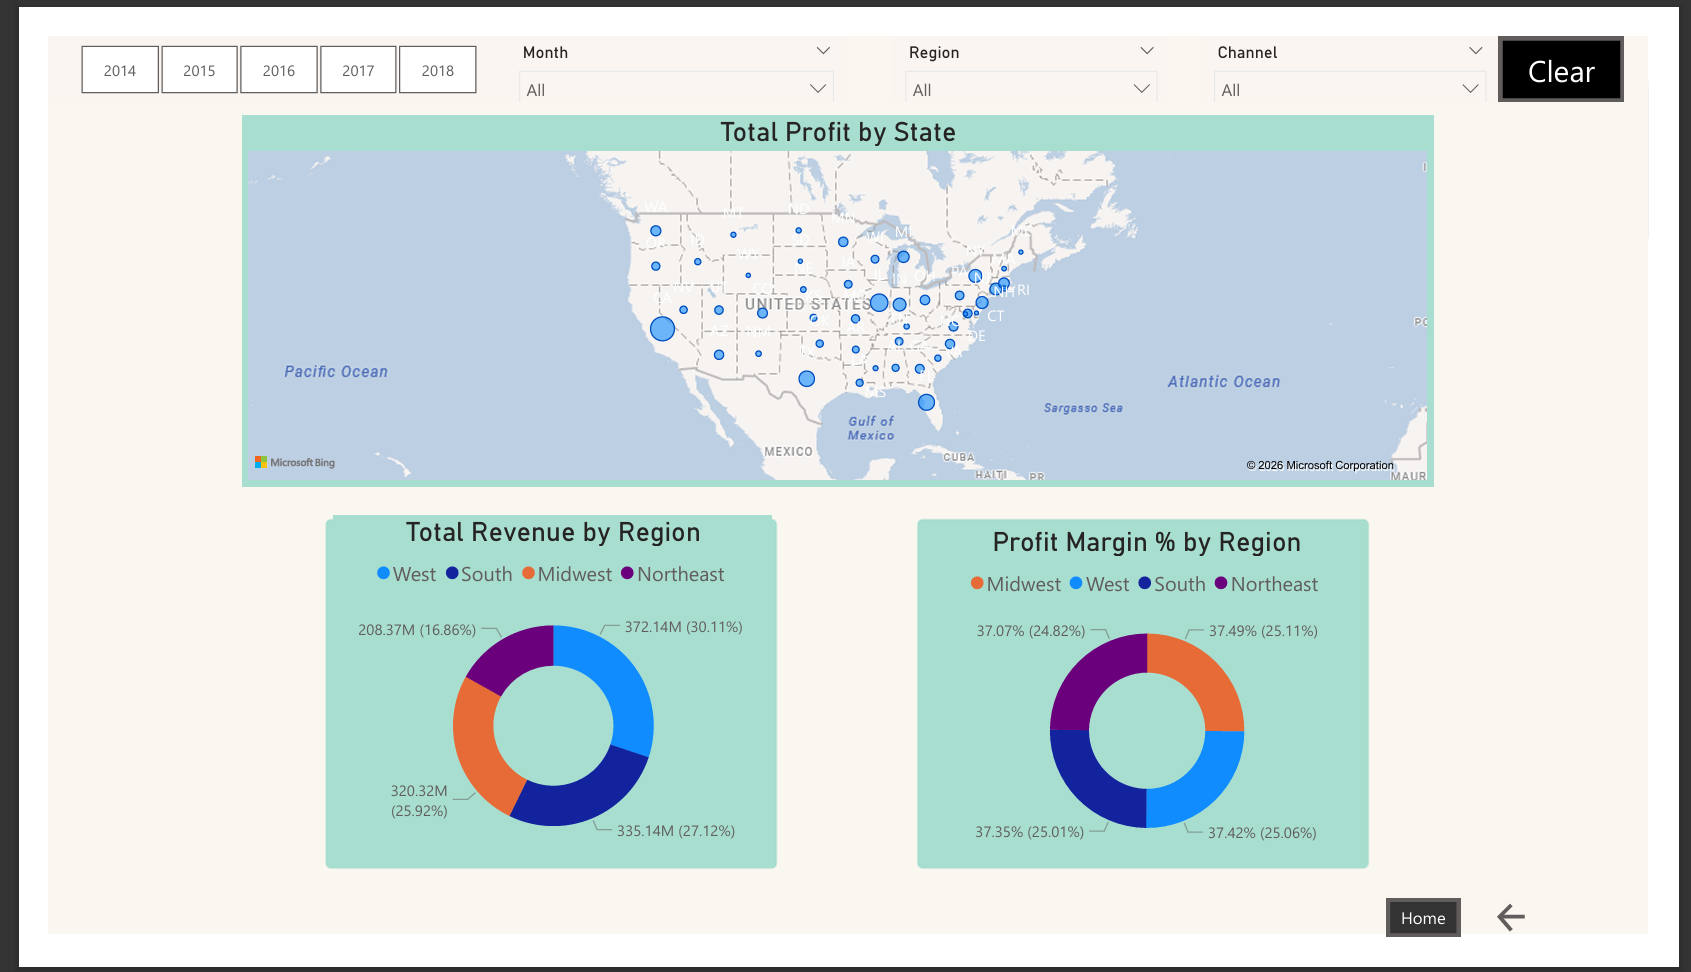

Layout of this report page (visuals, bound fields, positions):
{"tool":"powerbi","page":{"name":"Geographic Insights","canvas":[1280,720],"ordinal":4},"visuals":[{"type":"donutChart","title":"Total Revenue by Region","fields":{"Category":["Sales_data(EDA Exported).region"],"Y":["Query1.Total Revenue"]},"box":[227.8,382.8,351.3,279.9],"z":0},{"type":"donutChart","title":"Profit Margin % by Region","fields":{"Category":["Sales_data(EDA Exported).region"],"Y":["Query1.Profit Margin %"]},"box":[703.2,391.1,351.1,272.1],"z":1000},{"type":"map","title":"Total Profit by State","fields":{"Category":["Sales_data(EDA Exported).state"],"Size":["Query1.Total Profit"]},"box":[154.6,62.8,953.7,297],"z":2000},{"type":"slicer","fields":{"Values":["Sales_data(EDA Exported).Year"]},"box":[0,0,365.9,52],"z":3000},{"type":"slicer","fields":{"Values":["Sales_data(EDA Exported).Order Month Name"]},"box":[365.9,0,272.5,52],"z":4000},{"type":"slicer","fields":{"Values":["Sales_data(EDA Exported).region"]},"box":[675.1,0,222,52],"z":5000},{"type":"slicer","fields":{"Values":["Sales_data(EDA Exported).channel"]},"box":[921.5,0,238.8,52],"z":6000},{"type":"actionButton","title":"Clear","box":[1160.3,0,99.5,52],"z":7000},{"type":"actionButton","box":[1155.4,689,50,31],"z":8000},{"type":"actionButton","box":[1070.3,689,59,31],"z":9000}]}

Visuals, with their boxes in screenshot pixels (x1, y1, x2, y2), scaled from the page's 1280x720 canvas onto the 1691x972 screenshot:
"Total Revenue by Region" donutChart: x1=301 y1=517 x2=765 y2=895
"Profit Margin % by Region" donutChart: x1=929 y1=528 x2=1393 y2=895
"Total Profit by State" map: x1=204 y1=85 x2=1464 y2=486
slicer - Sales_data(EDA Exported).Year: x1=0 y1=0 x2=483 y2=70
slicer - Sales_data(EDA Exported).Order Month Name: x1=483 y1=0 x2=843 y2=70
slicer - Sales_data(EDA Exported).region: x1=892 y1=0 x2=1185 y2=70
slicer - Sales_data(EDA Exported).channel: x1=1217 y1=0 x2=1533 y2=70
"Clear" actionButton: x1=1533 y1=0 x2=1664 y2=70
actionButton: x1=1526 y1=930 x2=1592 y2=971
actionButton: x1=1414 y1=930 x2=1492 y2=971
